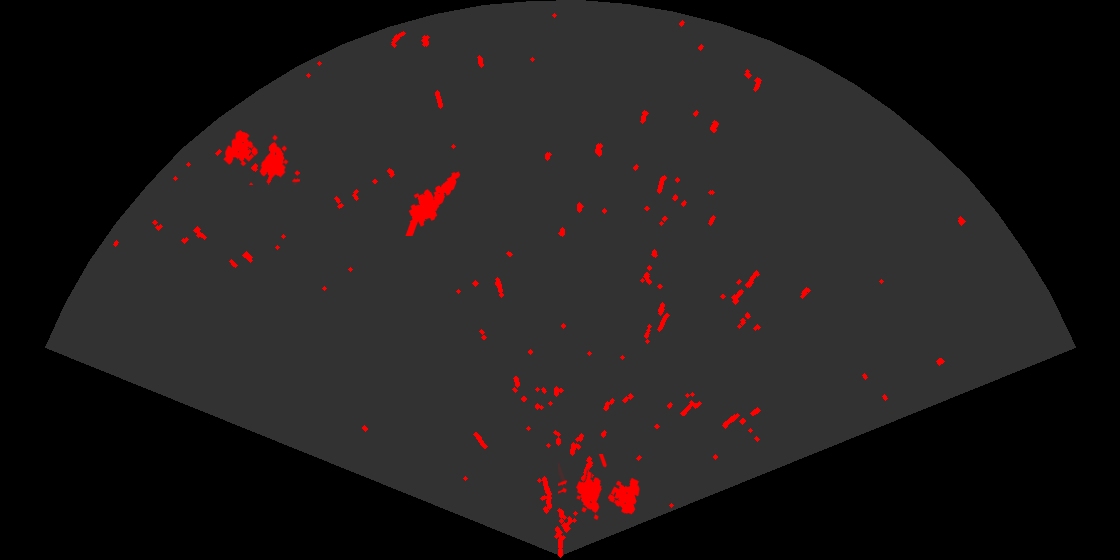cage: (558, 454, 641, 522), (222, 129, 300, 185)
frogman: (404, 170, 462, 236)
